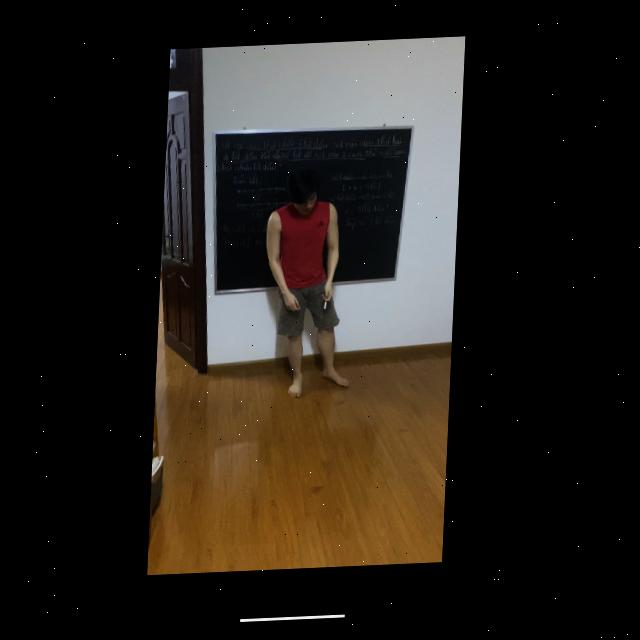cigarette: (326, 305, 329, 312)
